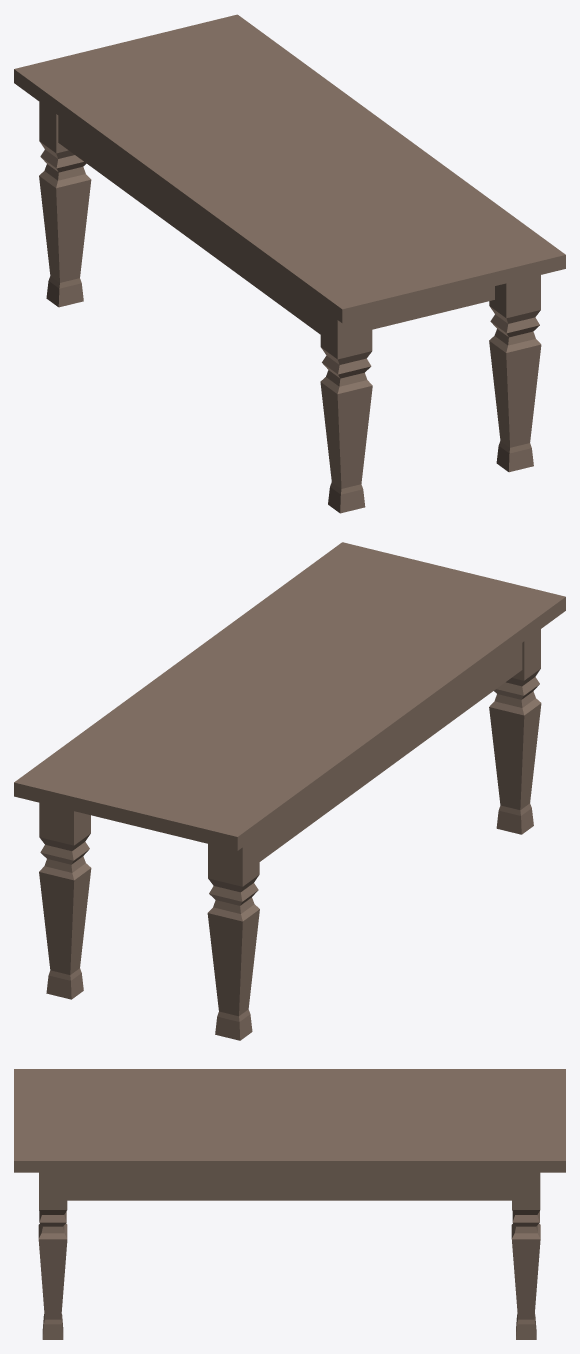
Rendered from obed.fbx.
The picture shows the model from 3 angles, top to bottom: view 1: azimuth 30°, elevation 25°; view 2: azimuth 150°, elevation 25°; view 3: azimuth 270°, elevation 25°; orthographic projection. The views are drawn at different scales.
Visible parts, largest first — view 1: Cube, Cube.001, Cube.002, Cube.003; view 2: Cube, Cube.001, Cube.002; view 3: Cube, Cube.002, Cube.001.
Boxes of the visible parts, x1,y1,x2,y2 form: Cube: (14, 14, 565, 323); Cube.001: (39, 102, 541, 513); Cube.002: (58, 116, 320, 334); Cube.003: (372, 286, 494, 329); Cube: (14, 542, 565, 850); Cube.001: (39, 629, 541, 1040); Cube.002: (259, 643, 522, 861); Cube: (14, 1069, 565, 1172); Cube.002: (67, 1172, 511, 1200); Cube.001: (38, 1172, 540, 1339).
Size of the model in its own units: 0.7905 by 0.744 by 2.01.
